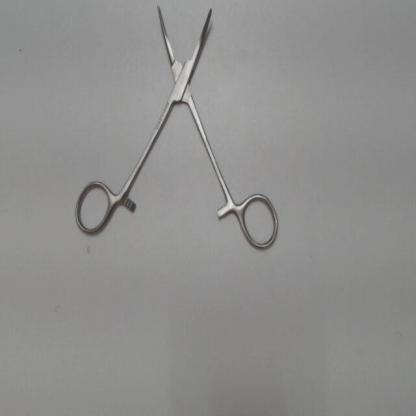Crile Artery Forceps: (65, 1, 286, 256)
